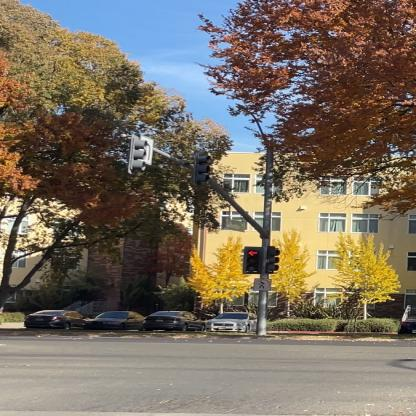left-red: (242, 244, 264, 276)
